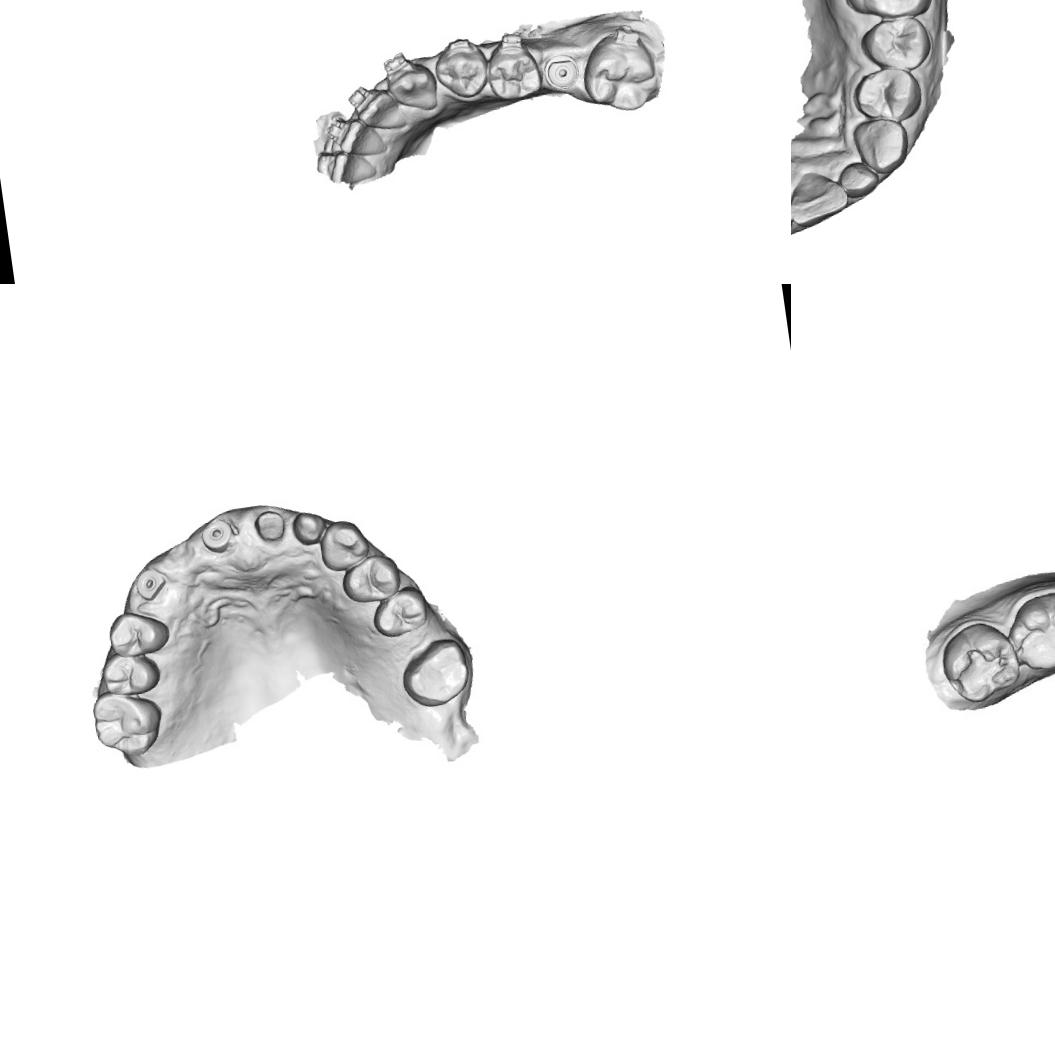canine: (850, 112, 911, 176), (315, 516, 373, 574), (382, 65, 442, 118)
crown: (289, 507, 329, 548), (251, 505, 289, 547)
implant: (541, 49, 583, 95), (198, 516, 238, 556), (132, 566, 169, 602)
incisor: (791, 165, 853, 225), (352, 86, 412, 136), (334, 112, 390, 163), (325, 145, 379, 188), (834, 155, 881, 199)
molar: (576, 24, 661, 122), (940, 618, 1021, 706), (88, 682, 168, 762), (396, 634, 473, 711), (1012, 594, 1055, 677), (836, 0, 934, 27)
premolar: (848, 60, 930, 130), (858, 10, 939, 78), (478, 36, 546, 106), (432, 40, 493, 103), (103, 605, 172, 660), (367, 583, 431, 640), (338, 552, 404, 606), (98, 646, 164, 698)
